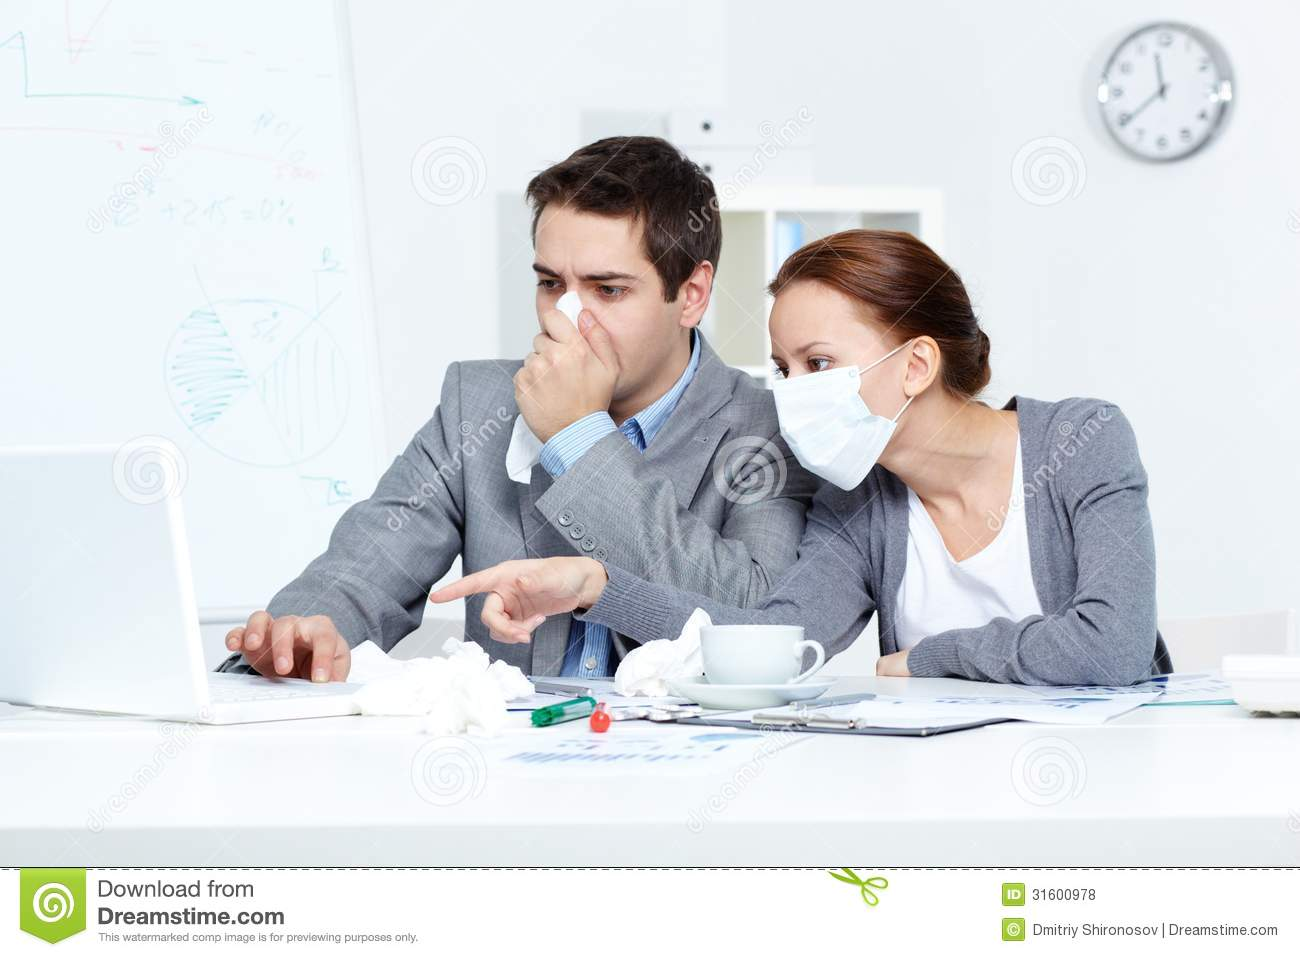mask: (772, 368, 890, 488)
